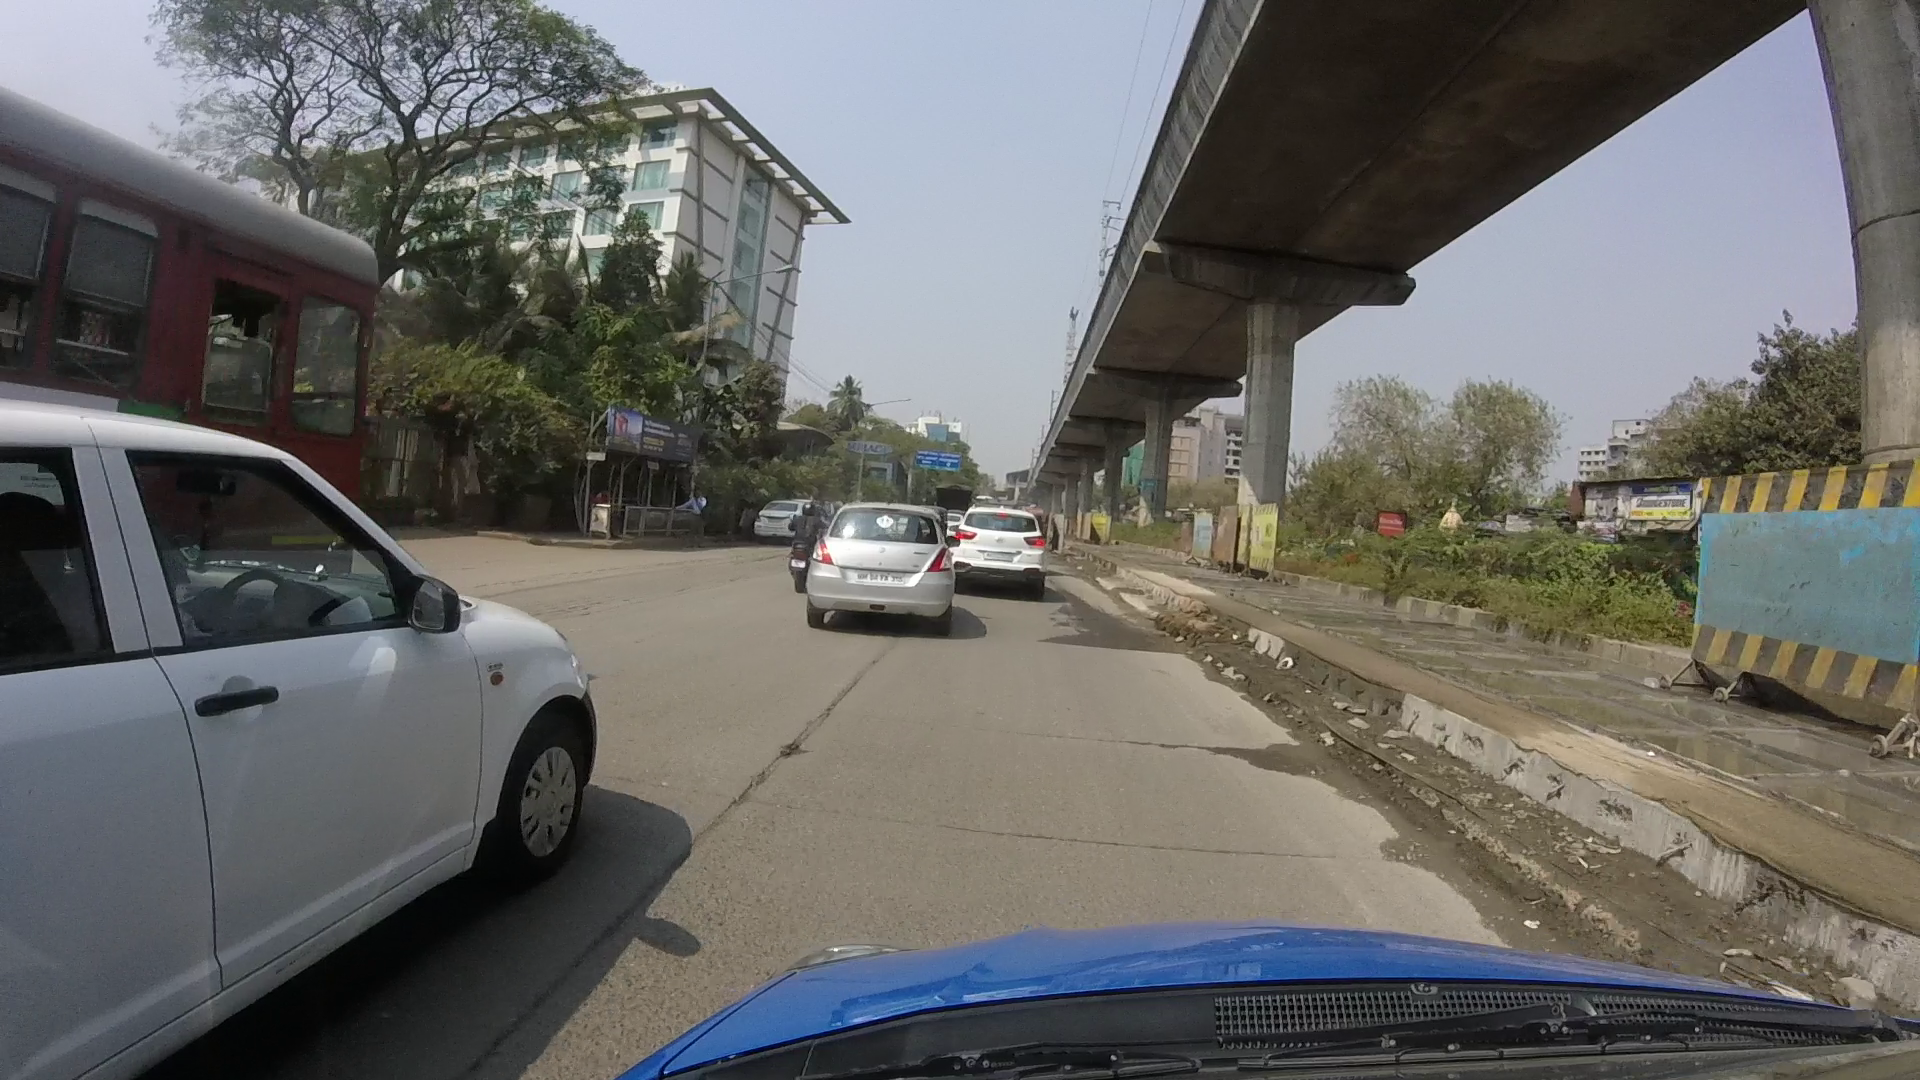bus: (13, 88, 381, 522)
car: (13, 404, 616, 1077), (799, 513, 955, 630), (957, 504, 1046, 583)
